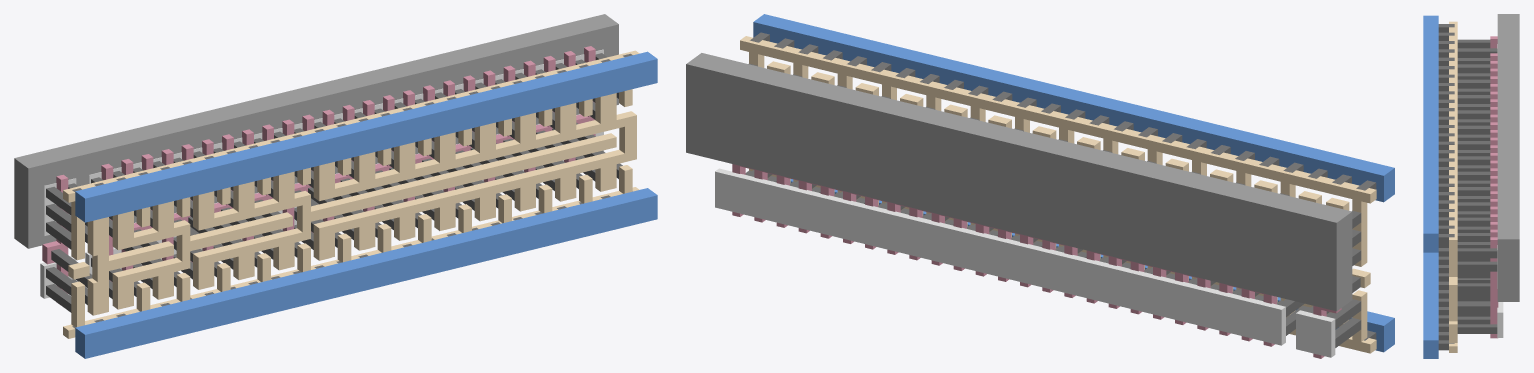
The model's file is sky130_fd_sc_hd__bufbuf_16.gds.gltf.
3 renders of one model, left to right at view 1: azimuth 30°, elevation 25°; view 2: azimuth 150°, elevation 25°; view 3: azimuth 270°, elevation 25°, orthographic. The views are drawn at different scales.
Parts seen in each view (by area): view 1: sky130_fd_sc_hd__bufbuf_16_li1, sky130_fd_sc_hd__bufbuf_16_met1, sky130_fd_sc_hd__bufbuf_16_nwell, sky130_fd_sc_hd__bufbuf_16_licon, sky130_fd_sc_hd__bufbuf_16_poly, sky130_fd_sc_hd__bufbuf_16_diff, sky130_fd_sc_hd__bufbuf_16_mcon; view 2: sky130_fd_sc_hd__bufbuf_16_nwell, sky130_fd_sc_hd__bufbuf_16_diff, sky130_fd_sc_hd__bufbuf_16_li1, sky130_fd_sc_hd__bufbuf_16_met1, sky130_fd_sc_hd__bufbuf_16_poly, sky130_fd_sc_hd__bufbuf_16_mcon, sky130_fd_sc_hd__bufbuf_16_licon; view 3: sky130_fd_sc_hd__bufbuf_16_licon, sky130_fd_sc_hd__bufbuf_16_nwell, sky130_fd_sc_hd__bufbuf_16_met1, sky130_fd_sc_hd__bufbuf_16_mcon, sky130_fd_sc_hd__bufbuf_16_li1, sky130_fd_sc_hd__bufbuf_16_poly, sky130_fd_sc_hd__bufbuf_16_diff.
Part boxes in pixels (box(x1,y1,x2,y2)): sky130_fd_sc_hd__bufbuf_16_li1: box(63, 50, 639, 338); sky130_fd_sc_hd__bufbuf_16_met1: box(75, 51, 657, 358); sky130_fd_sc_hd__bufbuf_16_nwell: box(14, 14, 618, 248); sky130_fd_sc_hd__bufbuf_16_licon: box(46, 53, 622, 312); sky130_fd_sc_hd__bufbuf_16_poly: box(42, 46, 595, 302); sky130_fd_sc_hd__bufbuf_16_diff: box(40, 49, 603, 298); sky130_fd_sc_hd__bufbuf_16_mcon: box(72, 53, 632, 328); sky130_fd_sc_hd__bufbuf_16_nwell: box(686, 53, 1352, 311); sky130_fd_sc_hd__bufbuf_16_diff: box(715, 168, 1335, 357); sky130_fd_sc_hd__bufbuf_16_li1: box(740, 36, 1376, 353); sky130_fd_sc_hd__bufbuf_16_met1: box(753, 14, 1394, 352); sky130_fd_sc_hd__bufbuf_16_poly: box(732, 164, 1341, 358); sky130_fd_sc_hd__bufbuf_16_mcon: box(750, 32, 1376, 340); sky130_fd_sc_hd__bufbuf_16_licon: box(745, 63, 1361, 347); sky130_fd_sc_hd__bufbuf_16_licon: box(1457, 39, 1497, 333); sky130_fd_sc_hd__bufbuf_16_nwell: box(1497, 14, 1519, 301); sky130_fd_sc_hd__bufbuf_16_met1: box(1423, 15, 1438, 358); sky130_fd_sc_hd__bufbuf_16_mcon: box(1438, 24, 1454, 350); sky130_fd_sc_hd__bufbuf_16_li1: box(1449, 21, 1457, 352); sky130_fd_sc_hd__bufbuf_16_poly: box(1490, 36, 1498, 338); sky130_fd_sc_hd__bufbuf_16_diff: box(1497, 44, 1503, 337).
Bounding box in the file's own units: 12.34 × 3.2 × 2.24.
